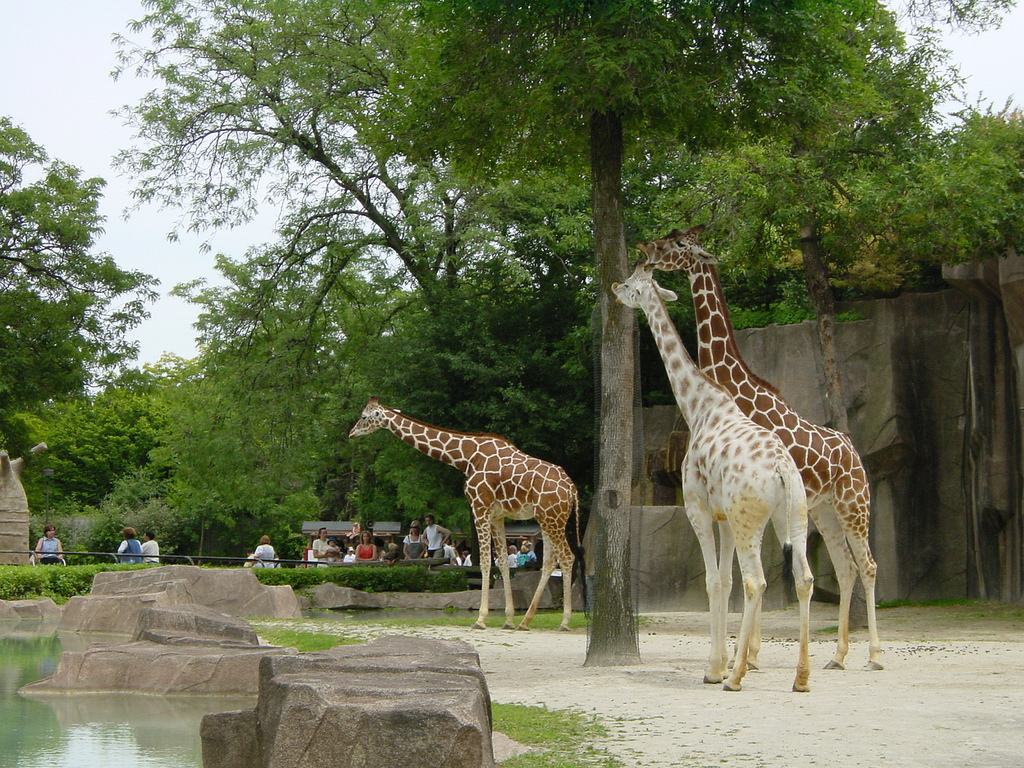giraffe: (667, 225, 914, 648), (600, 252, 826, 691), (325, 384, 606, 629)
